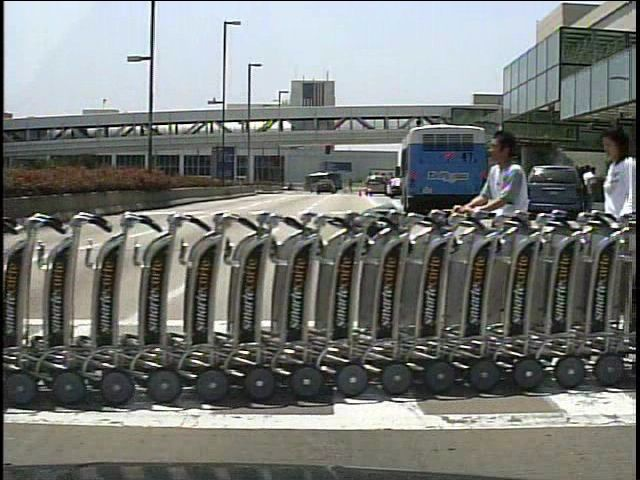person: (454, 125, 545, 364), (584, 117, 633, 332), (576, 163, 595, 218), (581, 164, 601, 215), (346, 176, 354, 196)
